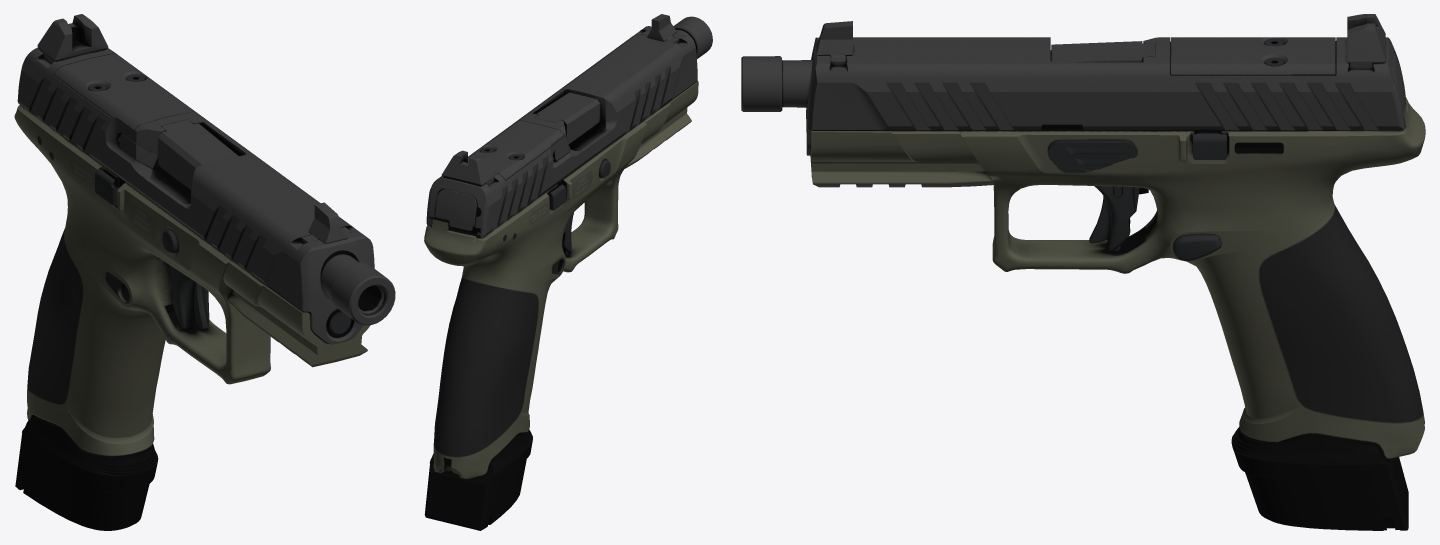
Rendered from apx.glb.
3 views of the same model, side by side, from view 1: azimuth 30°, elevation 25°; view 2: azimuth 150°, elevation 25°; view 3: azimuth 270°, elevation 25° (orthographic). The views are drawn at different scales.
Parts seen in each view (by area): view 1: apx_a1_full_size_tactical_green; view 2: apx_a1_full_size_tactical_green; view 3: apx_a1_full_size_tactical_green.
Boxes of the visible parts, bbox=[...] form: apx_a1_full_size_tactical_green: bbox=[14, 14, 395, 530]; apx_a1_full_size_tactical_green: bbox=[424, 14, 712, 530]; apx_a1_full_size_tactical_green: bbox=[741, 14, 1425, 530].
Size of the model in its own units: 3.33 by 16.63 by 20.96.
1 material, 1 textured.
